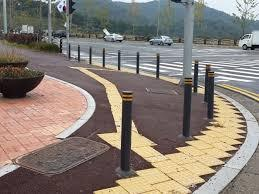Animal: (108, 85, 140, 175), (180, 73, 197, 141), (198, 66, 217, 116)
